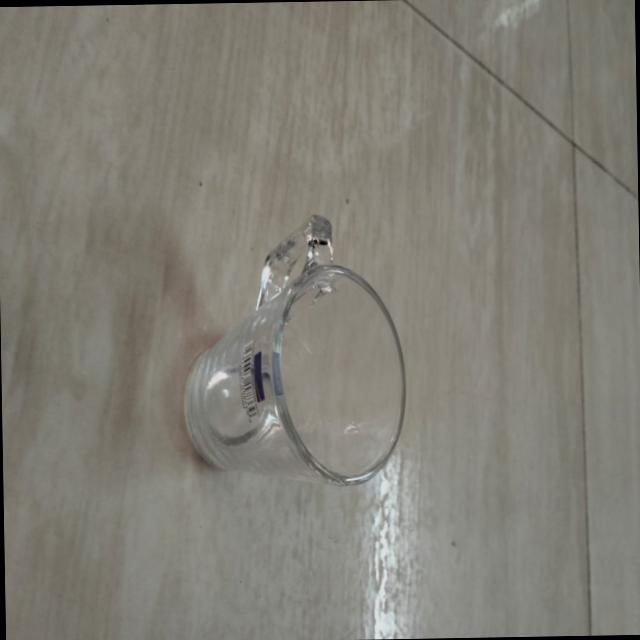glass-VX4N: (179, 202, 411, 496)
